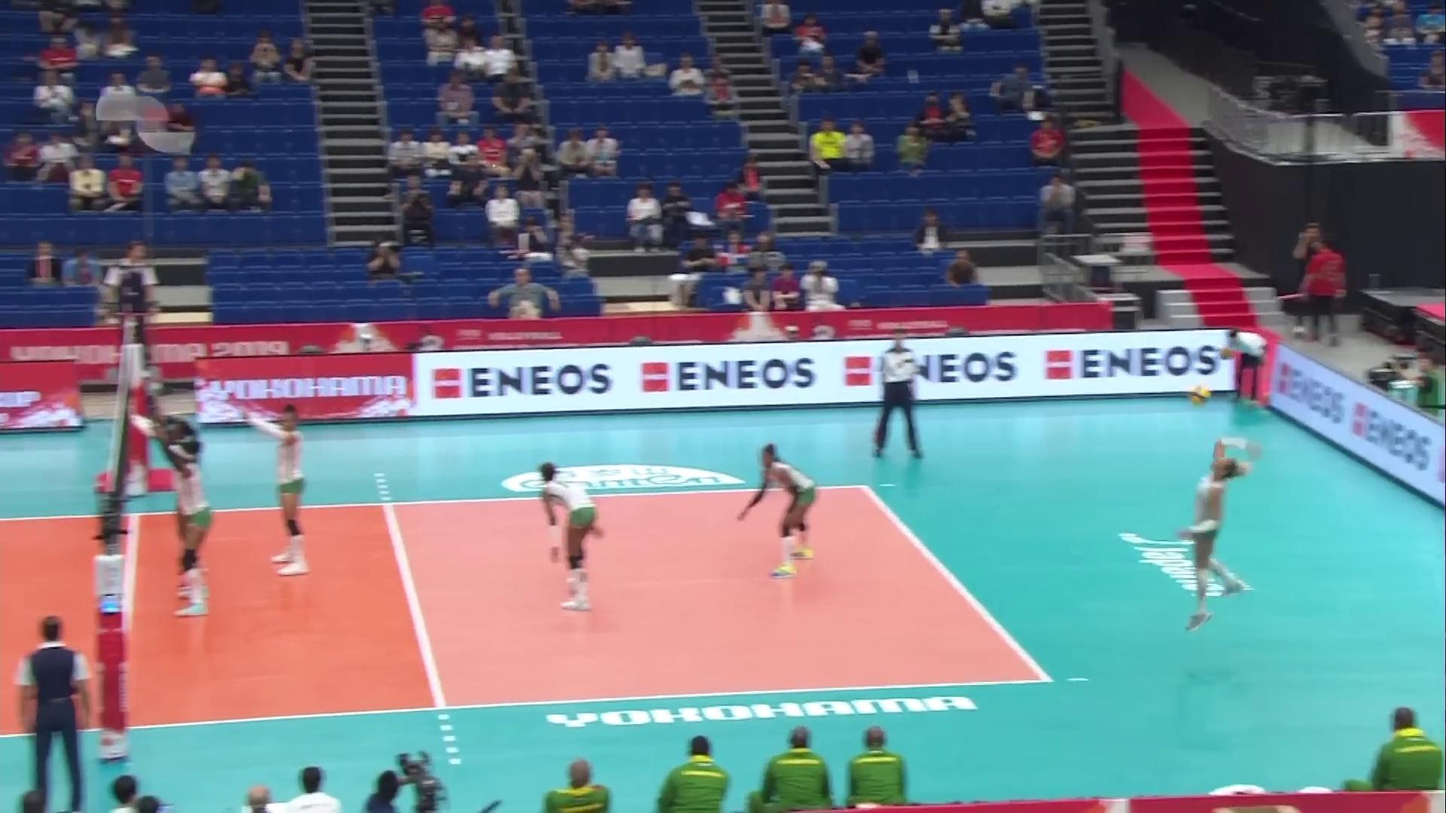player: (134, 412, 208, 595), (240, 405, 309, 580), (1186, 451, 1250, 632), (158, 430, 212, 615), (538, 463, 605, 611), (744, 444, 818, 575)
refree: (18, 617, 96, 809), (108, 239, 157, 379), (875, 327, 921, 461)
